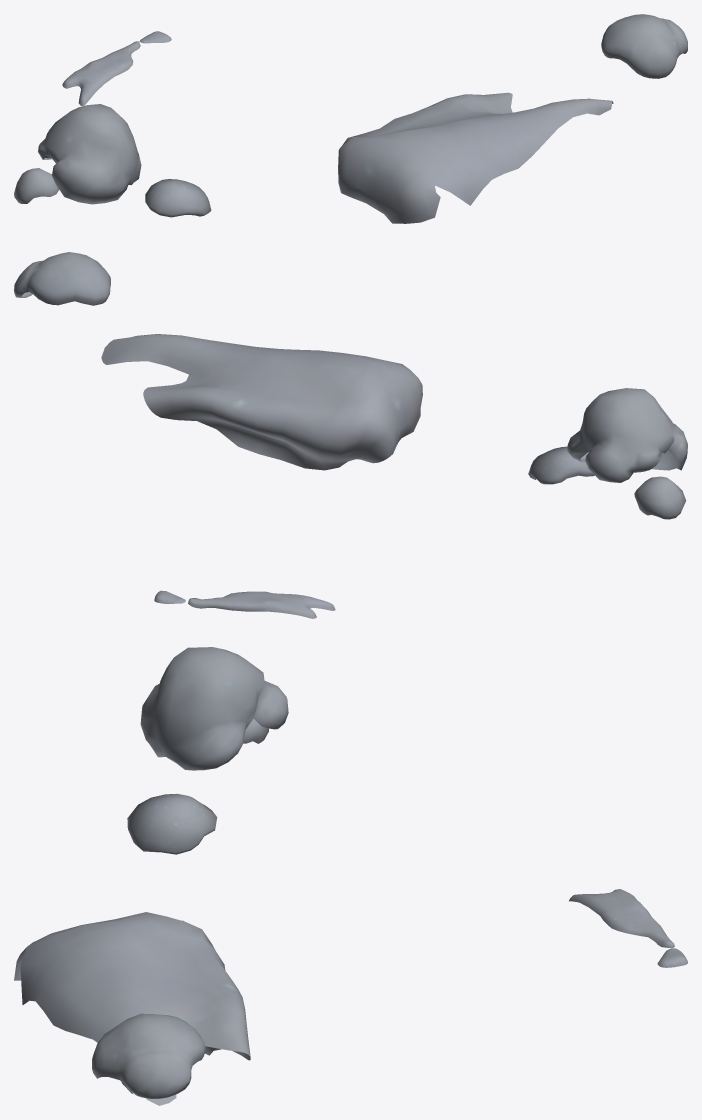
File: pref_sm_beach_plantsnowL01_lv3.fbx
3 renders of one model, top to bottom at view 1: azimuth 30°, elevation 25°; view 2: azimuth 150°, elevation 25°; view 3: azimuth 270°, elevation 25°, orthographic. The views are drawn at different scales.
Visible parts, largest first — view 1: pref_sm_beach_plantsnowL01_lv3; view 2: pref_sm_beach_plantsnowL01_lv3; view 3: pref_sm_beach_plantsnowL01_lv3.
Part boxes in pixels (x1=…): pref_sm_beach_plantsnowL01_lv3: x1=14, y1=14, x2=687, y2=223; pref_sm_beach_plantsnowL01_lv3: x1=14, y1=252, x2=687, y2=618; pref_sm_beach_plantsnowL01_lv3: x1=14, y1=647, x2=687, y2=1105.
Size of the model in its own units: 17.69 by 3.96 by 12.37.
